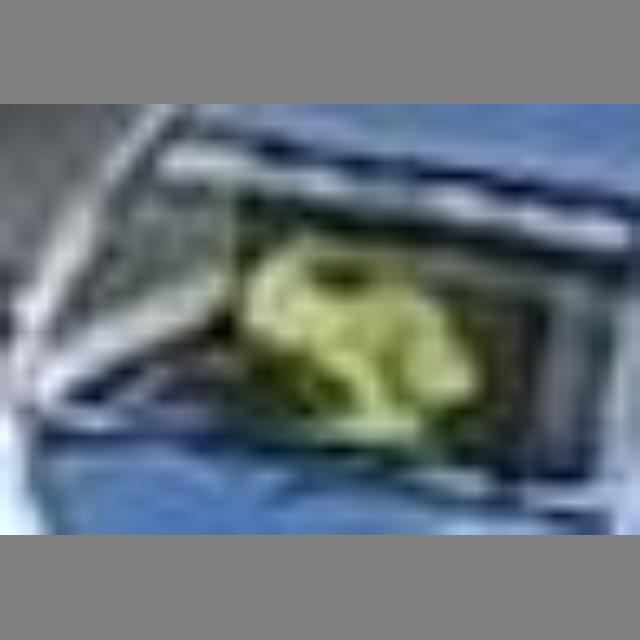tidak-pakai: (222, 195, 457, 431)
